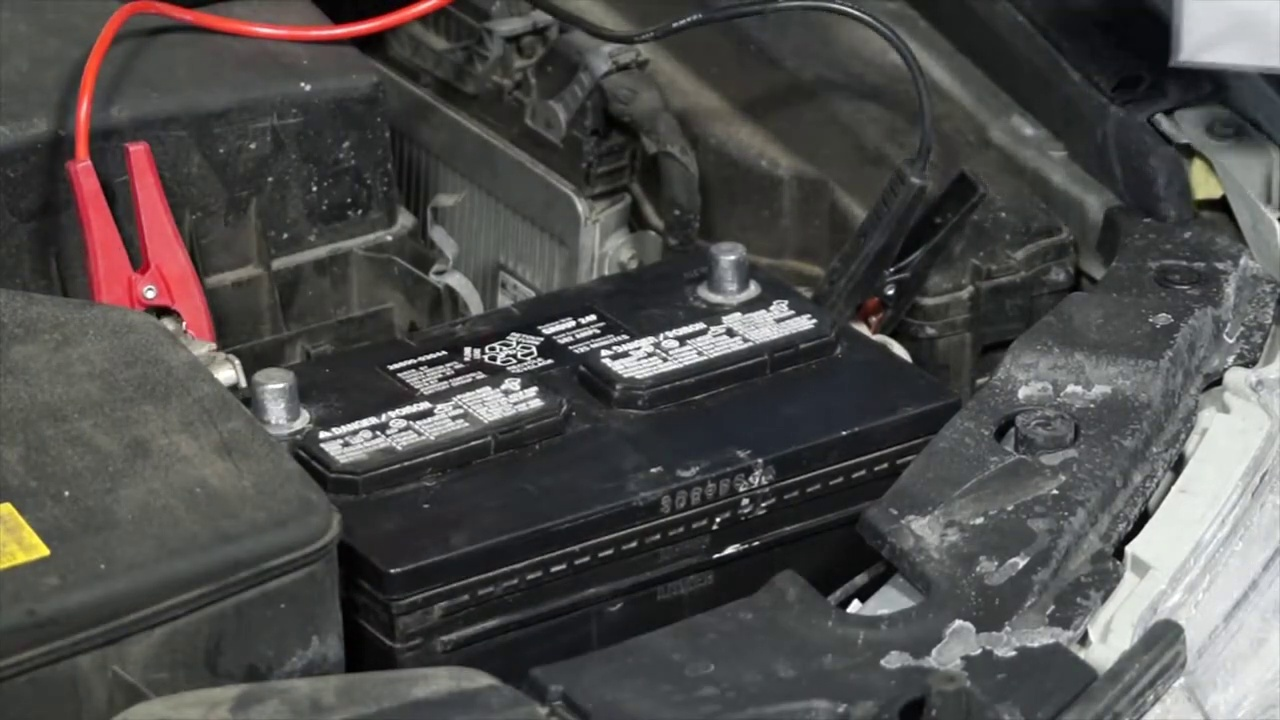battery: (200, 223, 955, 530)
neg_disconnected: (646, 216, 800, 315)
pos_disconnected: (90, 227, 320, 439)
